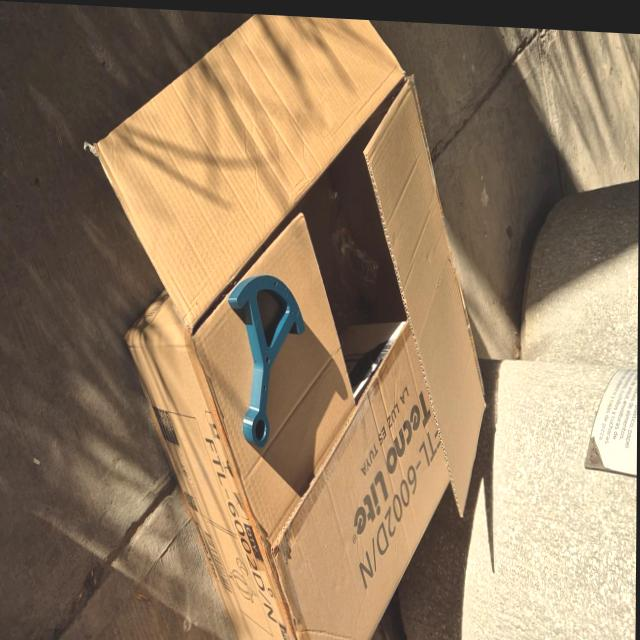haptic: (226, 270, 306, 450)
